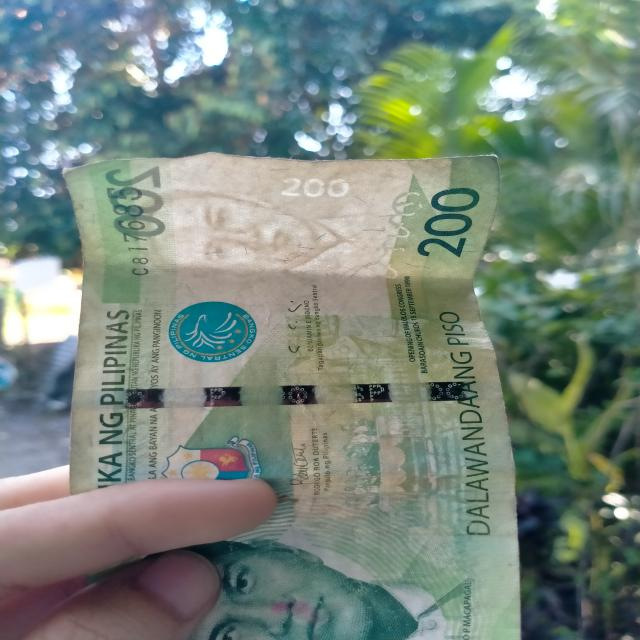security_thread: (90, 384, 495, 412)
see_through_mark: (371, 187, 421, 291)
value_watermark: (274, 175, 350, 202)
watermark: (145, 189, 368, 293)
